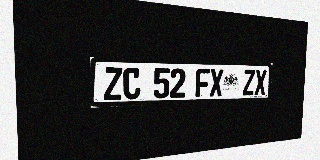2: (170, 68, 186, 98)
5: (154, 68, 170, 98)
C: (123, 67, 141, 100)
F: (195, 69, 210, 97)
X: (210, 69, 223, 97), (254, 70, 267, 95)
Z: (104, 67, 122, 100), (243, 69, 255, 95)
